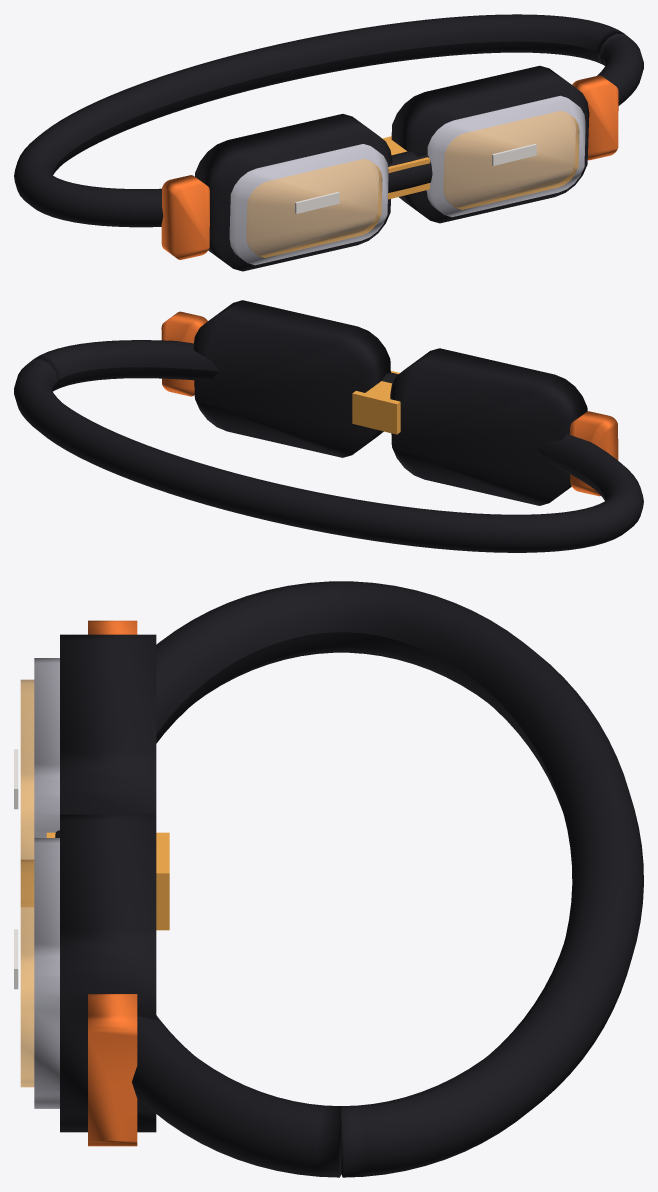
File: sol_headpiece.glb
3 renders of one model, top to bottom at view 1: azimuth 30°, elevation 25°; view 2: azimuth 150°, elevation 25°; view 3: azimuth 270°, elevation 25°, orthographic. The views are drawn at different scales.
Visible parts, largest first — view 1: sol_headpiece; view 2: sol_headpiece; view 3: sol_headpiece.
Boxes of the visible parts, left/top/right/bottom form: sol_headpiece: left=14, top=14, right=643, bottom=271; sol_headpiece: left=14, top=300, right=643, bottom=552; sol_headpiece: left=14, top=581, right=643, bottom=1177.
Size of the model in its own units: 0.5857 by 0.103 by 0.281.
